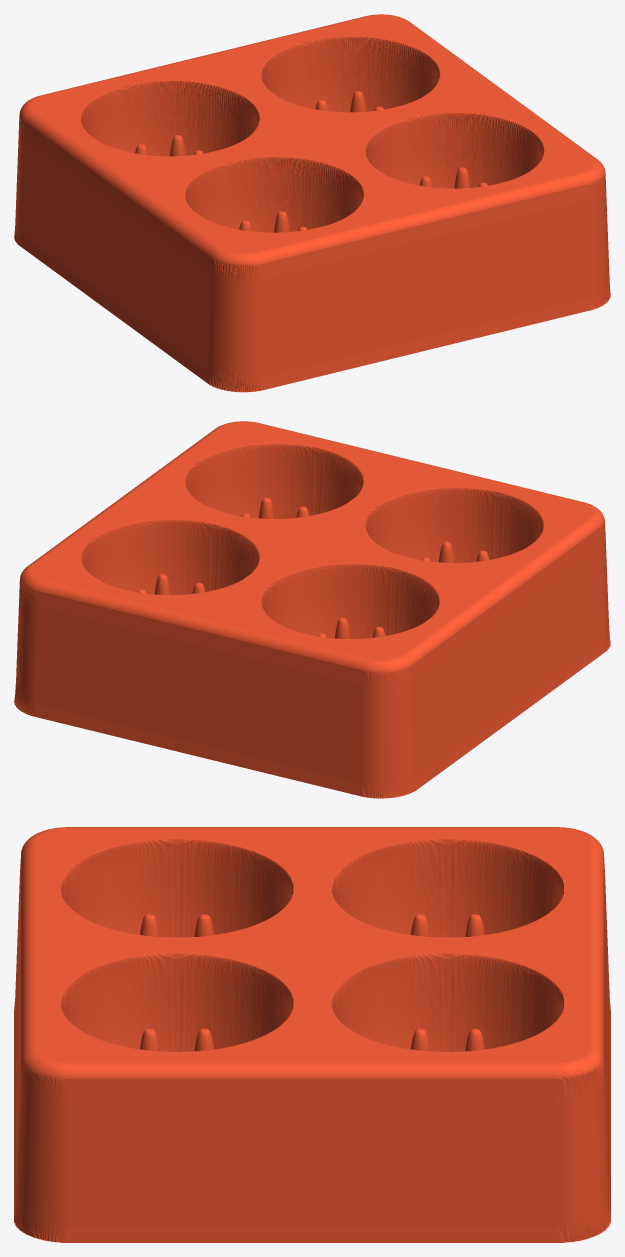
File: mold.glb
3 views of the same model, one above another, from view 1: azimuth 30°, elevation 25°; view 2: azimuth 150°, elevation 25°; view 3: azimuth 270°, elevation 25° (orthographic). The views are drawn at different scales.
Parts seen in each view (by area): view 1: geometry_0; view 2: geometry_0; view 3: geometry_0.
Part boxes in pixels (box(x1,y1,x2,y2)): geometry_0: box(14, 14, 610, 392); geometry_0: box(14, 421, 610, 798); geometry_0: box(14, 827, 610, 1242).
Bounding box in the file's own units: 0.0992 × 0.0314 × 0.0992.
